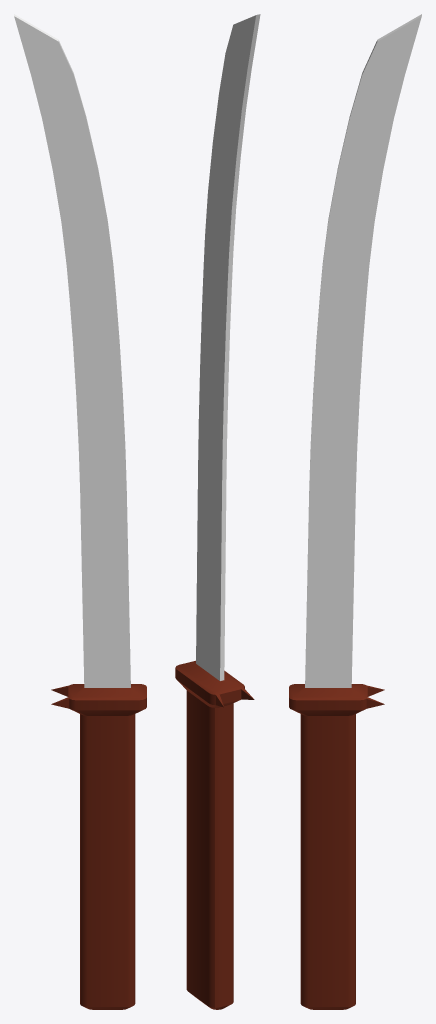
File: sword.fbx
3 views of the same model, side by side, from view 1: azimuth 90°, elevation 25°; view 2: azimuth 210°, elevation 25°; view 3: azimuth 270°, elevation 25° (orthographic). The views are drawn at different scales.
Parts seen in each view (by area): view 1: Cube.001, Cube; view 2: Cube.001, Cube; view 3: Cube.001, Cube.
Part boxes in pixels (x1,y1,x2,y2): Cube.001: [14, 14, 130, 687]; Cube: [51, 684, 146, 1009]; Cube.001: [196, 14, 260, 680]; Cube: [175, 660, 254, 1009]; Cube.001: [305, 14, 421, 687]; Cube: [289, 684, 384, 1009].
Bounding box in the file's own units: 8.92 × 251 × 30.52.
